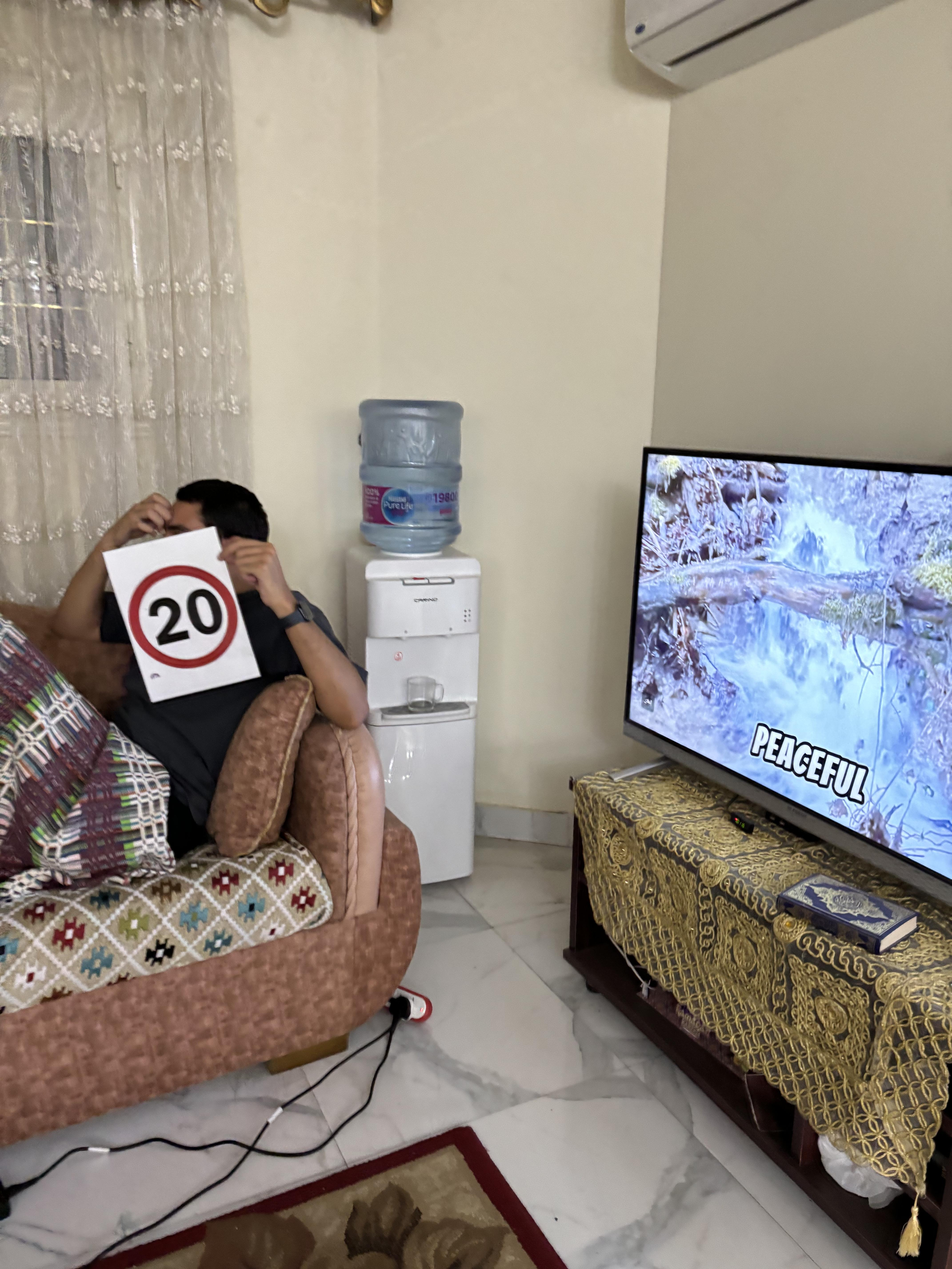20-Speed: (129, 565, 248, 664)
